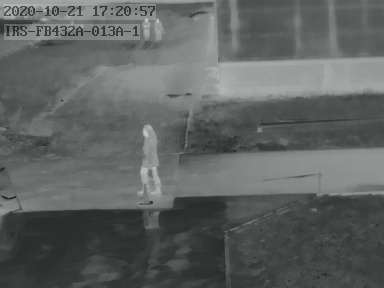person: (138, 122, 162, 197), (154, 17, 164, 42), (142, 17, 151, 40)
